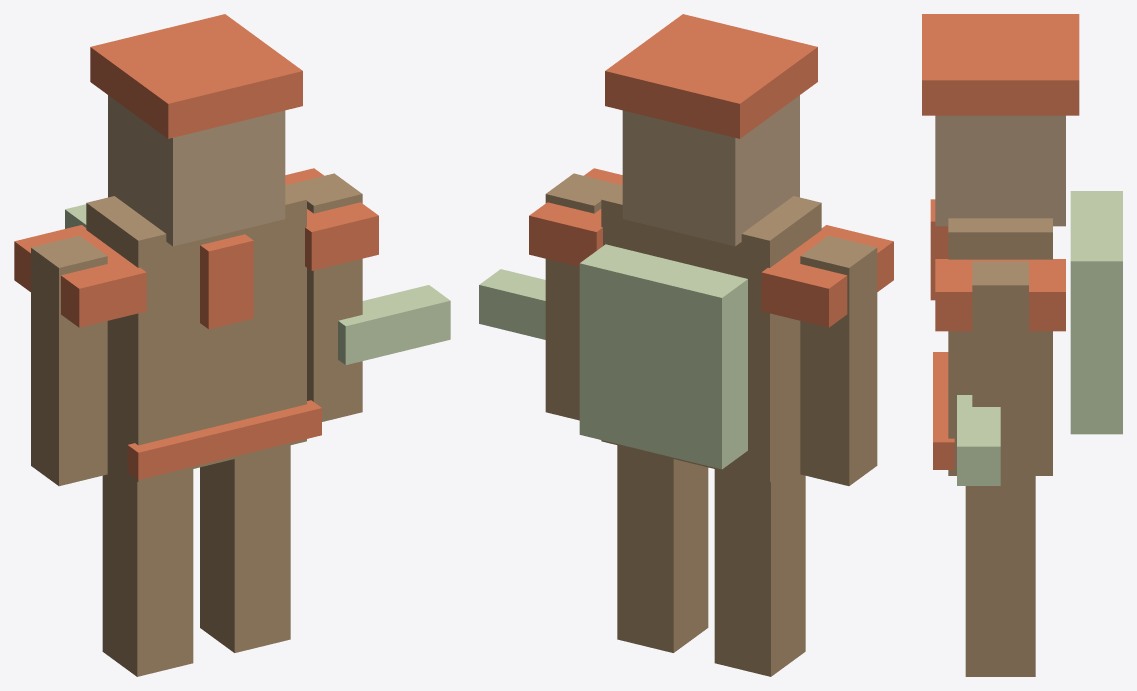
Rendered from 14_asha_emberkin_sentinel_near_wind.glb.
3 renders of one model, left to right at view 1: azimuth 30°, elevation 25°; view 2: azimuth 150°, elevation 25°; view 3: azimuth 270°, elevation 25°, orthographic.
Visible parts, largest first — view 1: Asha Emberkin, Sentinel near Wind; view 2: Asha Emberkin, Sentinel near Wind; view 3: Asha Emberkin, Sentinel near Wind.
Boxes of the visible parts, x1,y1,x2,y2 form: Asha Emberkin, Sentinel near Wind: (14, 14, 450, 676); Asha Emberkin, Sentinel near Wind: (479, 14, 893, 676); Asha Emberkin, Sentinel near Wind: (922, 14, 1122, 676).
Bounding box in the file's own units: 1.02 × 1.5 × 0.4598.
